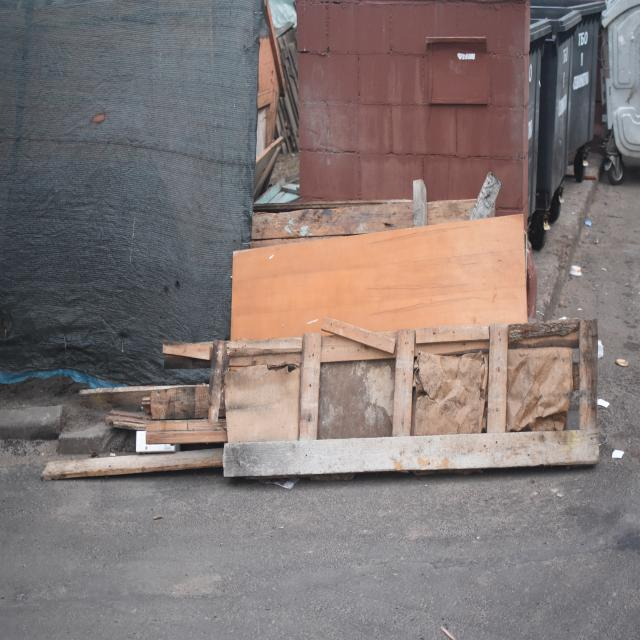entulho: (58, 310, 604, 485), (226, 208, 533, 346), (251, 171, 501, 247)
